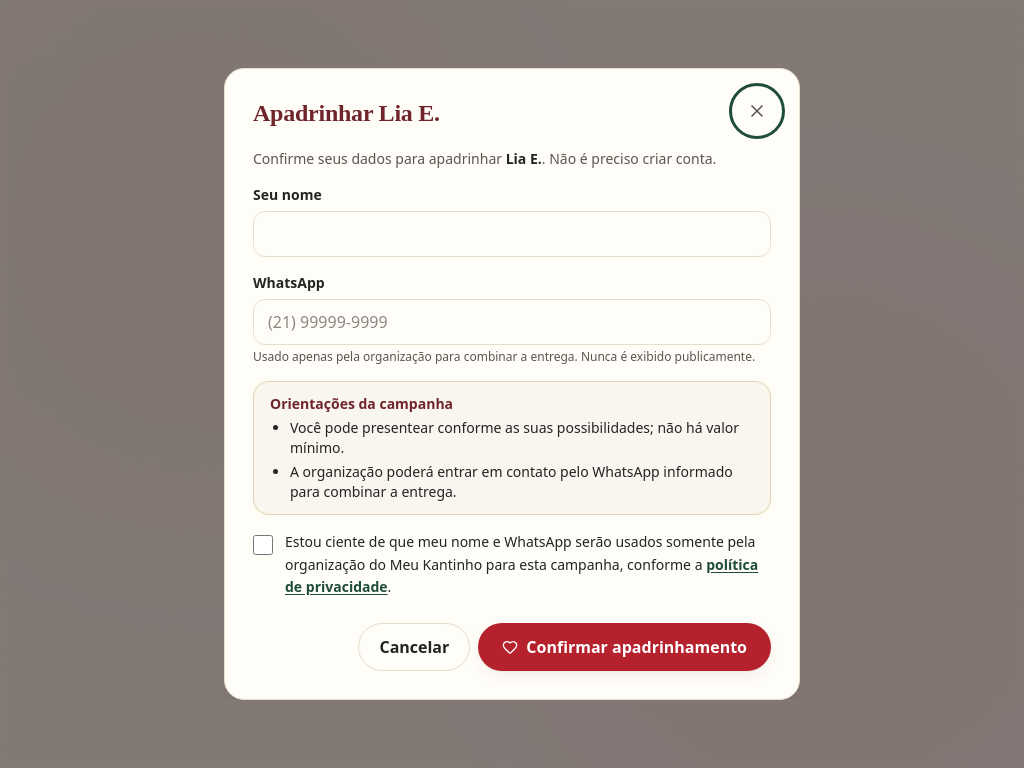
Scenario: SponsorDialog — animação somente após confirmação do servidor › conflito: mensagem oficial e SEM animação
This screenshot has width=1024, height=768.
Type "Maria Teste" into the field labelled "Seu nome". click: (512, 234)
box: x1=253 y1=211 x2=771 y2=257
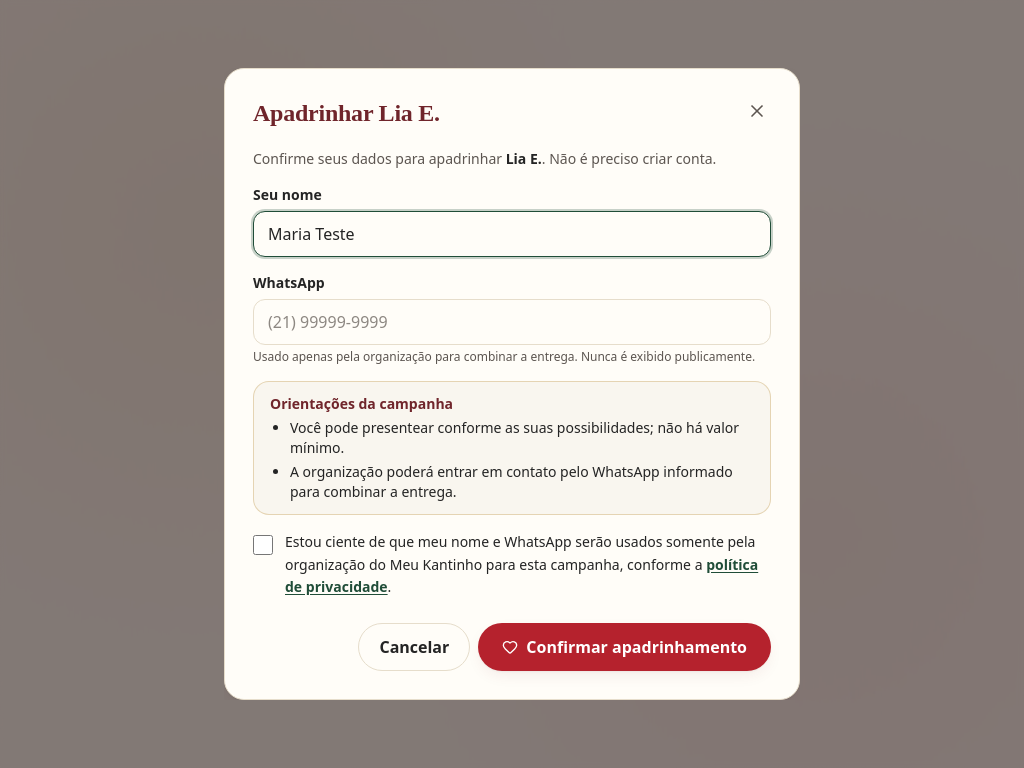
Type "21987654321" into the field labelled "WhatsApp". click: (512, 322)
box: x1=253 y1=299 x2=771 y2=345
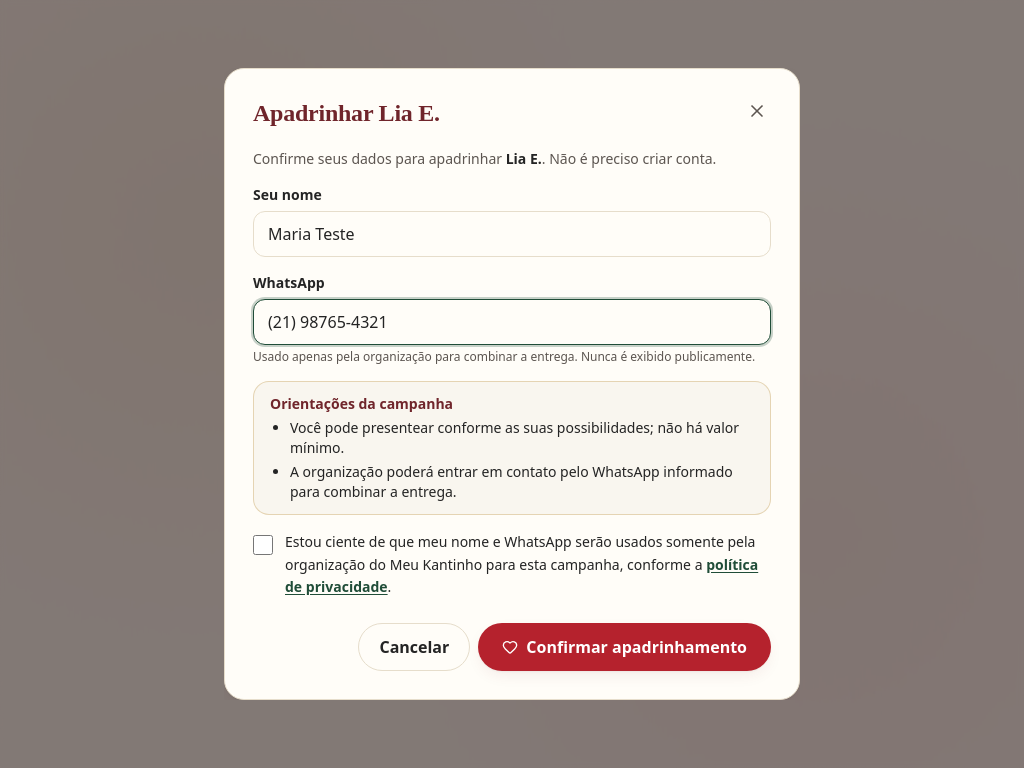
Click the checkbox. click: click(263, 545)
box: x1=253 y1=535 x2=273 y2=555
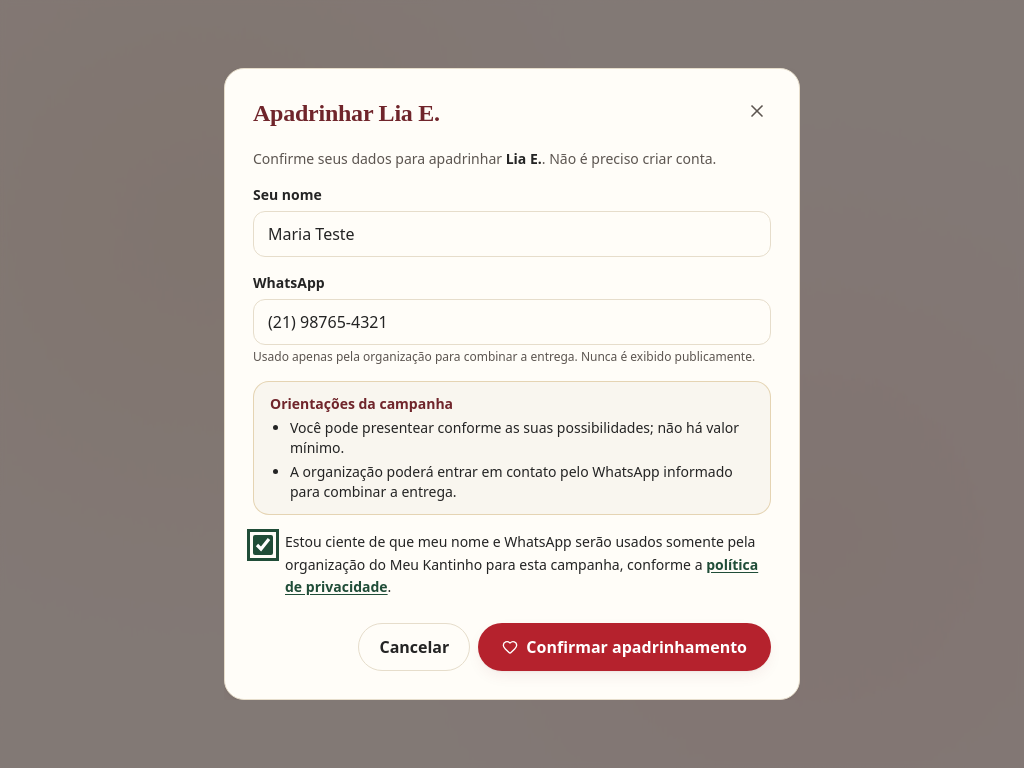
Click the button with test id "confirm-sponsor". click: click(625, 647)
box: x1=478 y1=623 x2=771 y2=671
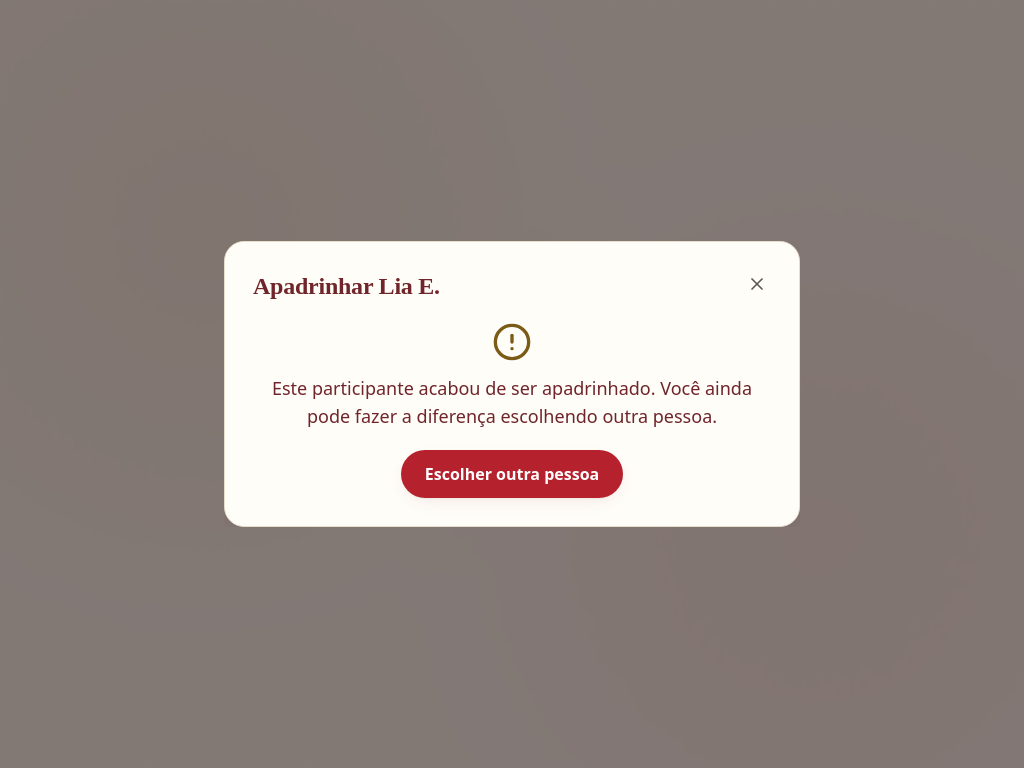
expect the element with test id "sponsor-conflict" shows "Este participante acabou de ser apadrinhado. Você ainda pode fazer a diferença escolhendo outra pessoa.": met, box x1=272 y1=376 x2=752 y2=428
